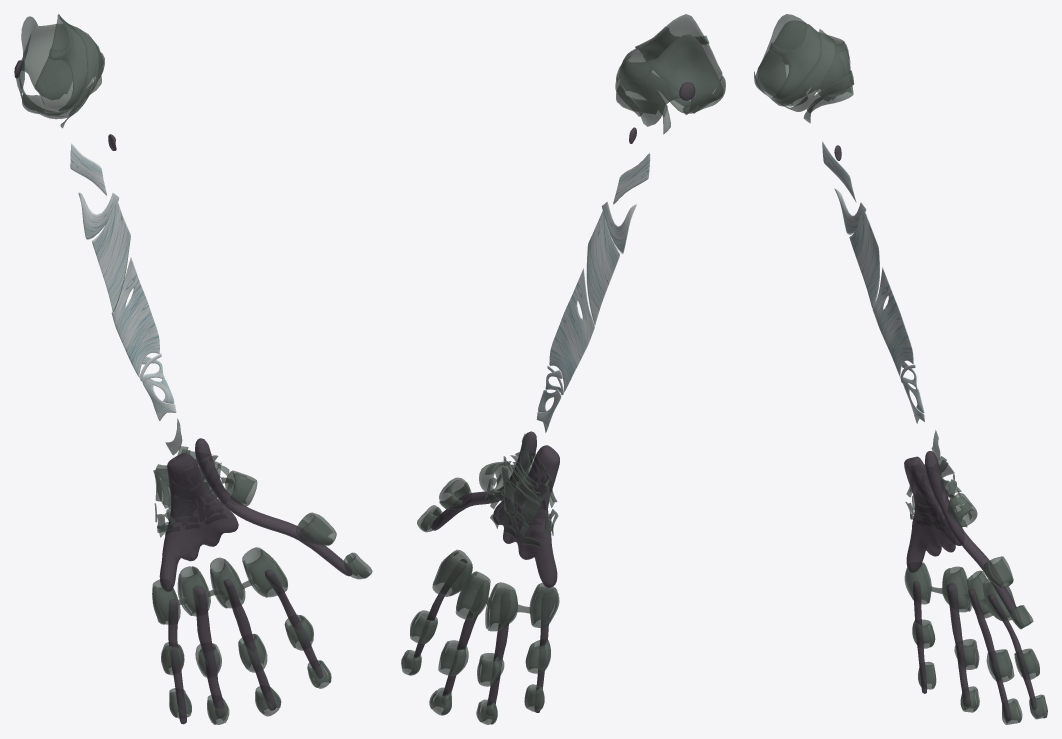
The model's file is Connective.Upper_limb.Interosseous_membrane_upper_limb_R.001.obj.
3 views of the same model, side by side, from view 1: azimuth 30°, elevation 25°; view 2: azimuth 150°, elevation 25°; view 3: azimuth 330°, elevation 25° (orthographic). The views are drawn at different scales.
Visible parts, largest first — view 1: Connective:Upper_limb:Interosseous_membrane_upper_limb_R.001_Upp; view 2: Connective:Upper_limb:Interosseous_membrane_upper_limb_R.001_Upp; view 3: Connective:Upper_limb:Interosseous_membrane_upper_limb_R.001_Upp.
Boxes of the visible parts, left/top/right/bottom form: Connective:Upper_limb:Interosseous_membrane_upper_limb_R.001_Upp: left=14, top=14, right=372, bottom=724; Connective:Upper_limb:Interosseous_membrane_upper_limb_R.001_Upp: left=401, top=14, right=725, bottom=724; Connective:Upper_limb:Interosseous_membrane_upper_limb_R.001_Upp: left=754, top=14, right=1047, bottom=724.
Bounding box in the file's own units: 1.02 × 2.25 × 0.3071.
